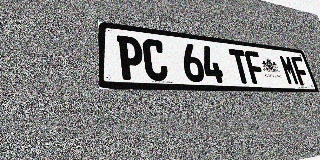4: (199, 45, 225, 83)
6: (180, 43, 206, 82)
C: (142, 38, 169, 81)
F: (244, 50, 267, 84), (290, 56, 311, 86)
M: (278, 54, 300, 85)
P: (117, 35, 145, 80)
T: (228, 48, 252, 84)
